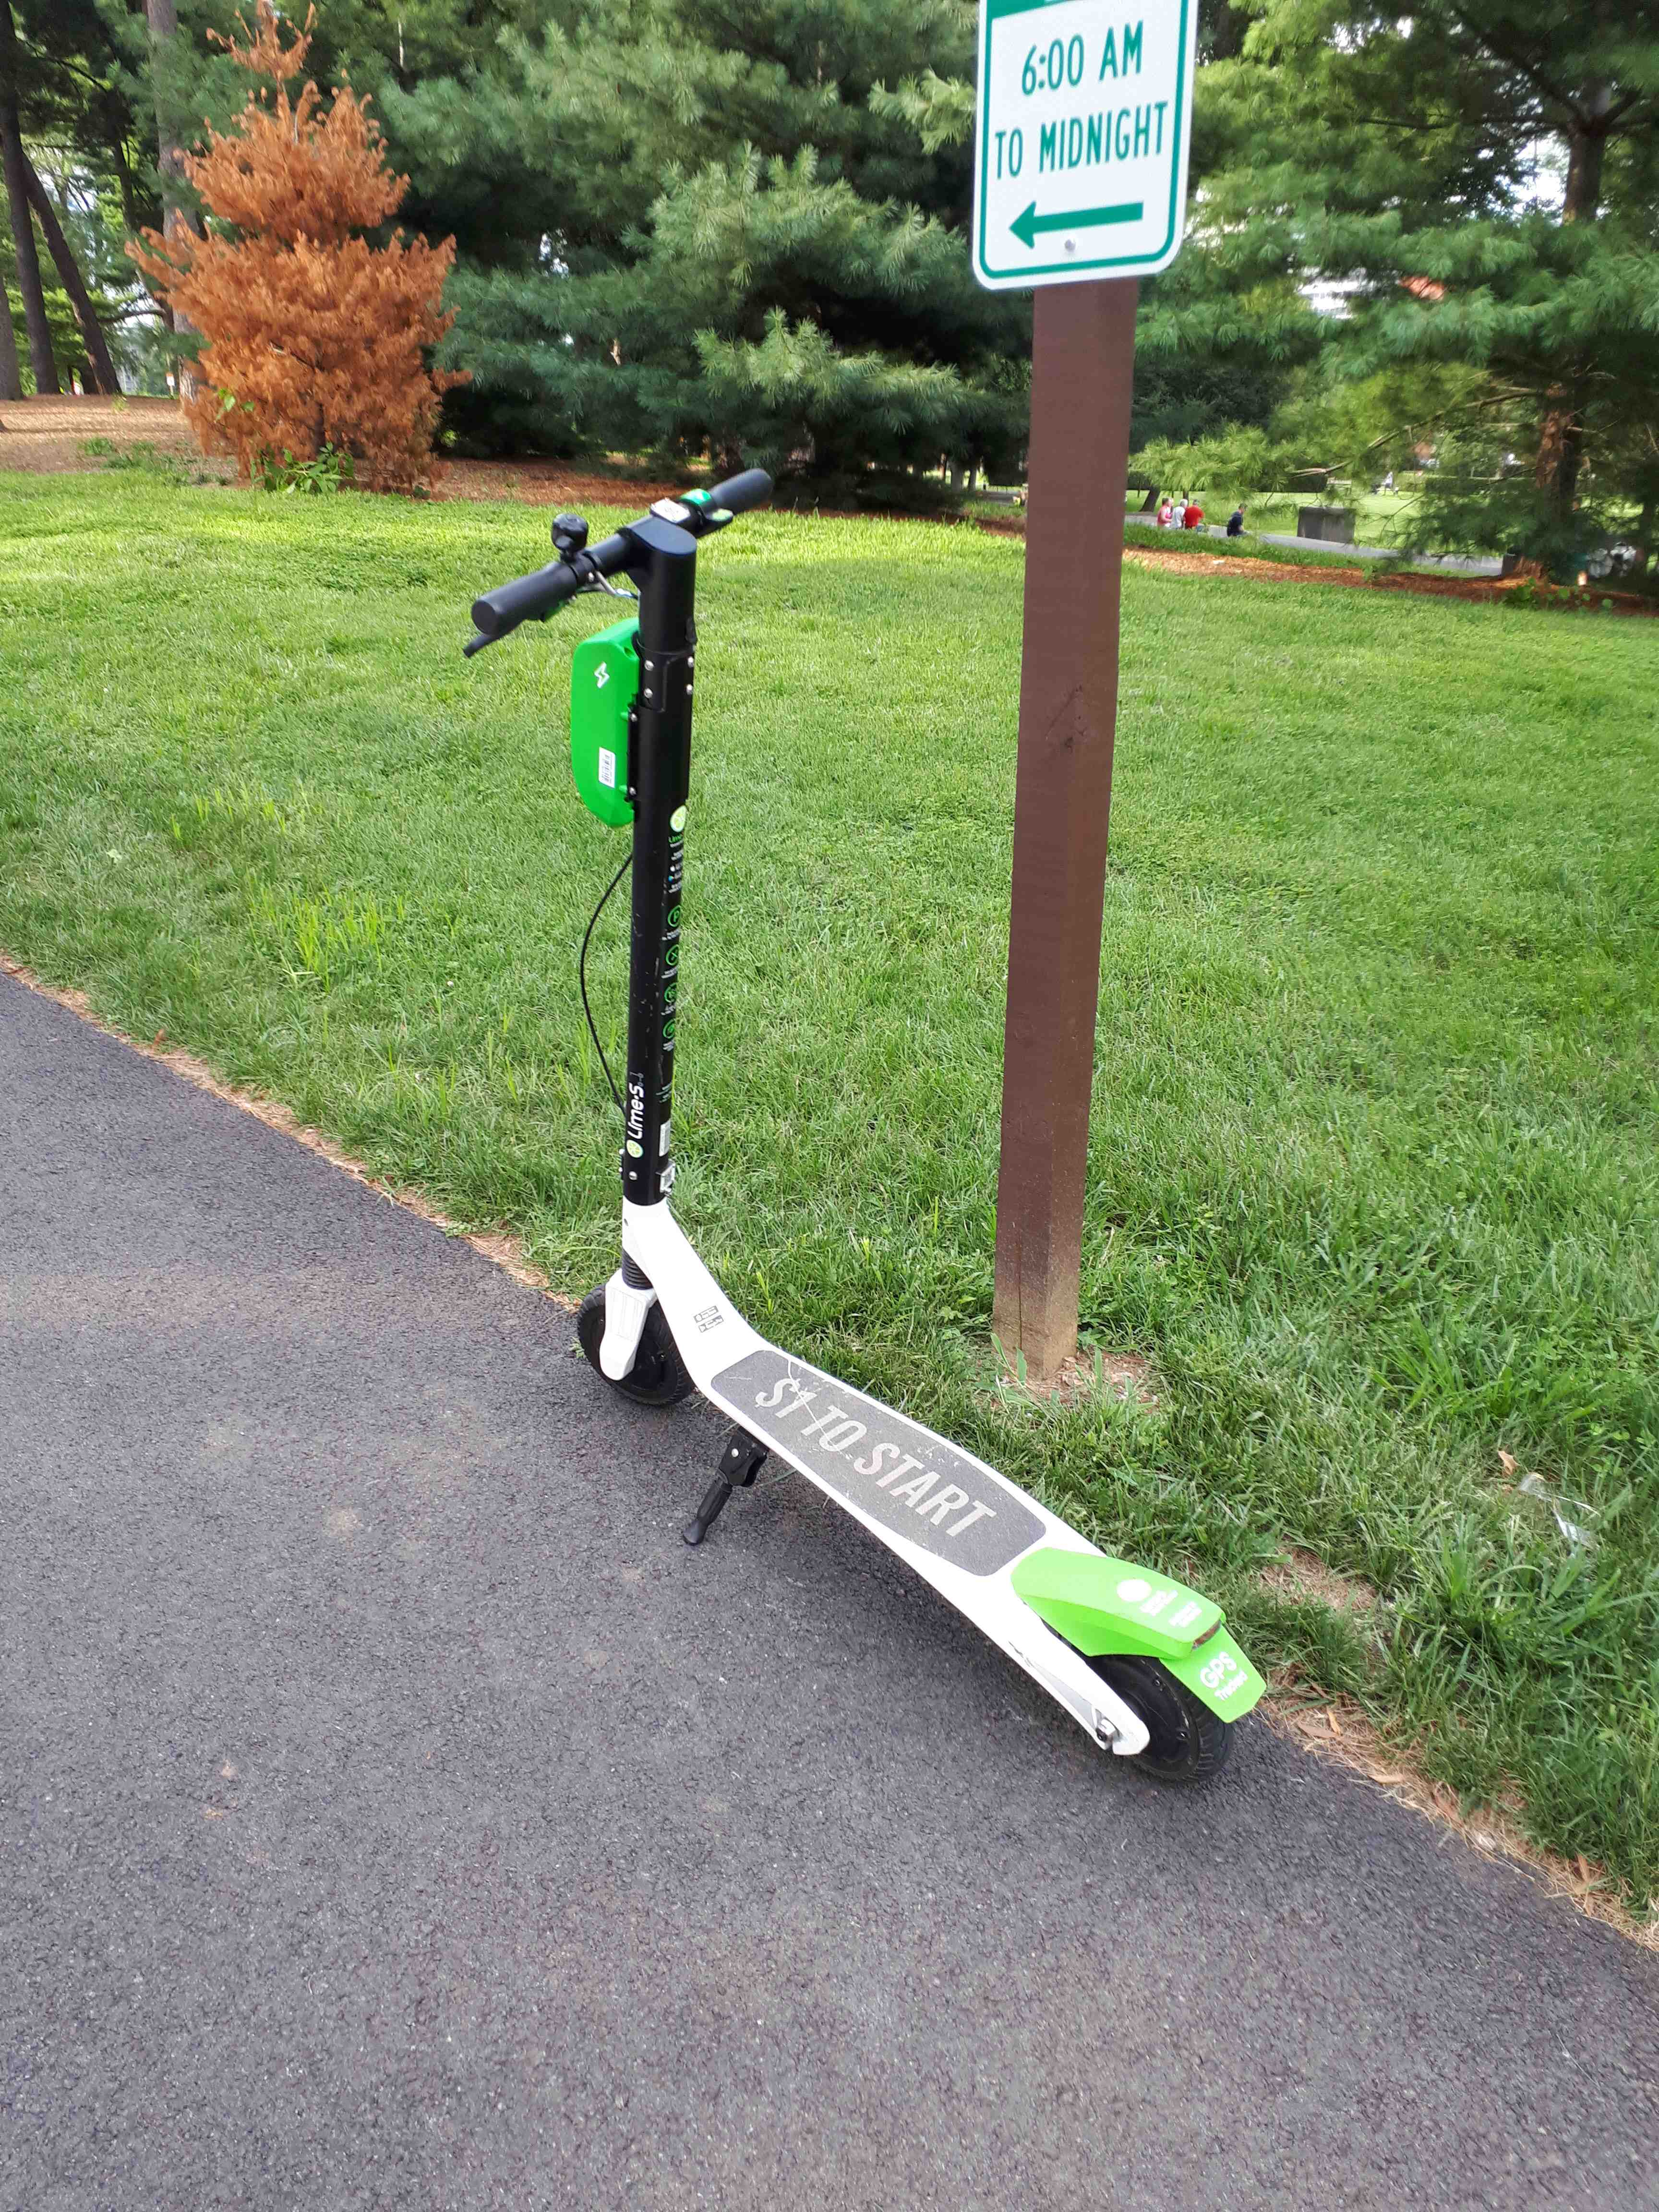scooter: (443, 434, 1302, 1806)
